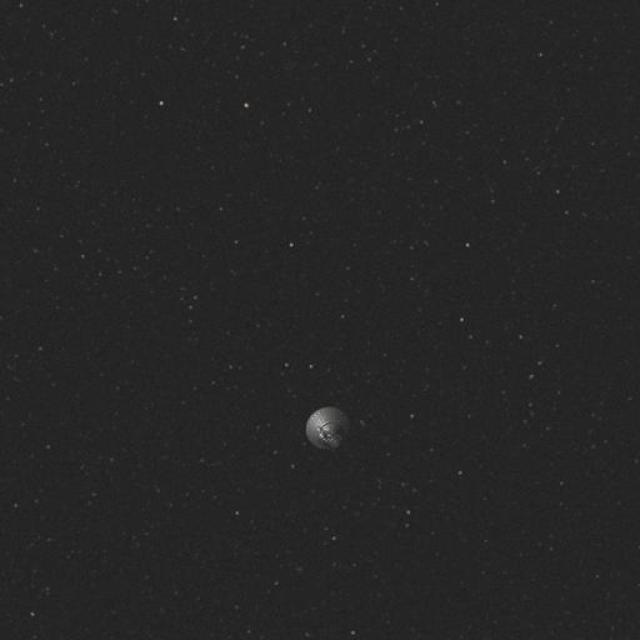debris: (301, 404, 356, 456)
